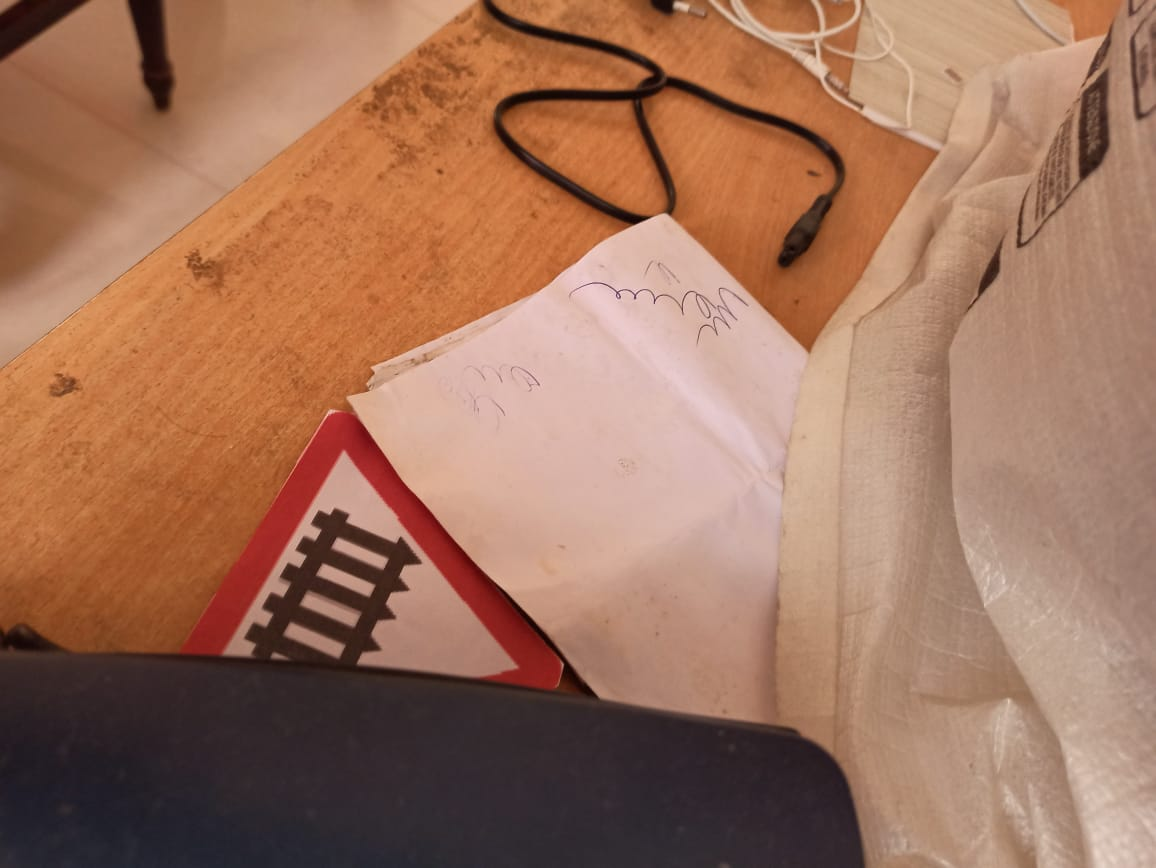GUARDED LEVEL CROSSING: (161, 407, 588, 703)
